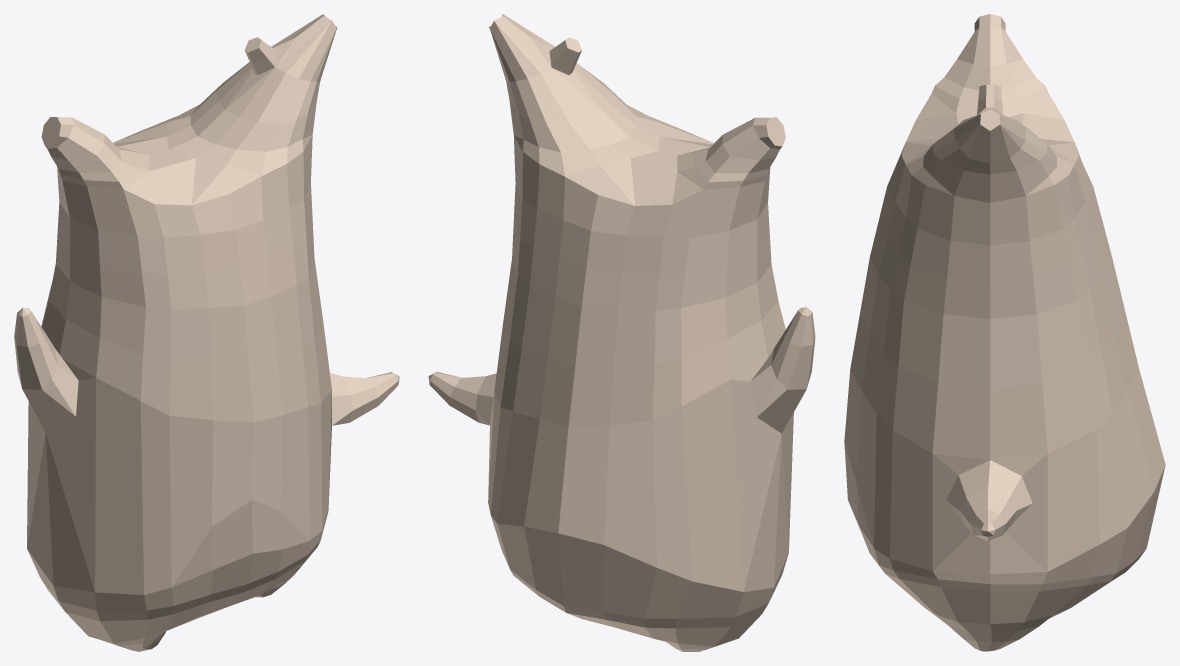
The model's file is frame_0067.obj.
3 views of the same model, side by side, from view 1: azimuth 30°, elevation 25°; view 2: azimuth 150°, elevation 25°; view 3: azimuth 270°, elevation 25° (orthographic).
Visible parts, largest first — view 1: korok; view 2: korok; view 3: korok.
Boxes of the visible parts, x1,y1,x2,y2 form: korok: (14, 14, 399, 651); korok: (428, 14, 815, 651); korok: (844, 14, 1165, 651).
Bounding box in the file's own units: 1.5 × 2.19 × 1.07.
